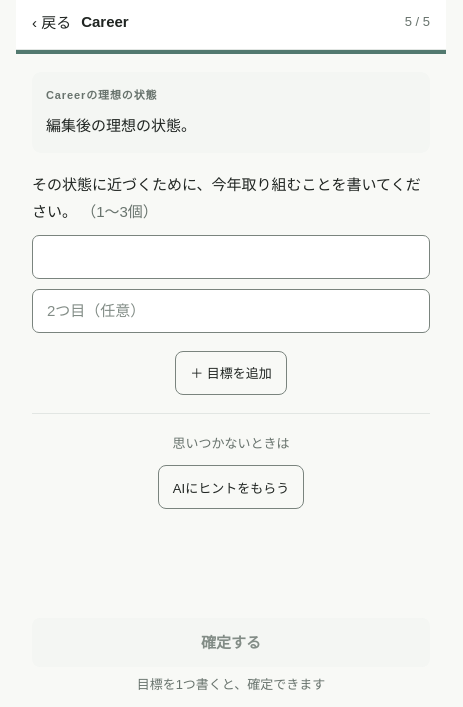
Test: S-56 › AIにヒントをもらうと候補3件を表示し、押すと空欄に反映する
This screenshot has width=463, height=707.
Click the button with class "s56__ghost-button" showing "AIにヒントをもらう" at (231, 487), box [158,465,304,509]
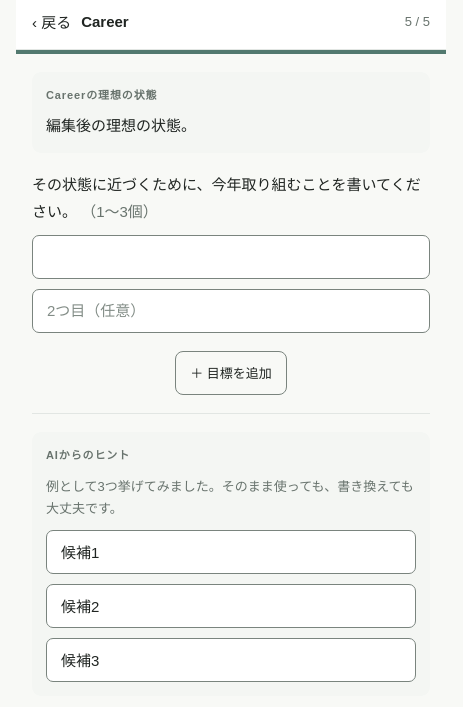
Check: the number of buttons with class "s56__hint-option" is 3
Click the button with class "s56__hint-option" showing "候補1" at (80, 553), box [46,530,416,574]
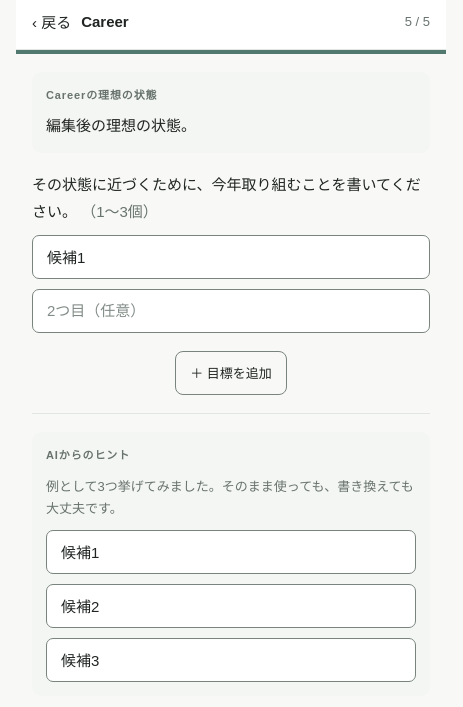
Check: the field with class "s56__input" holds "候補1", box [32,235,430,279]
